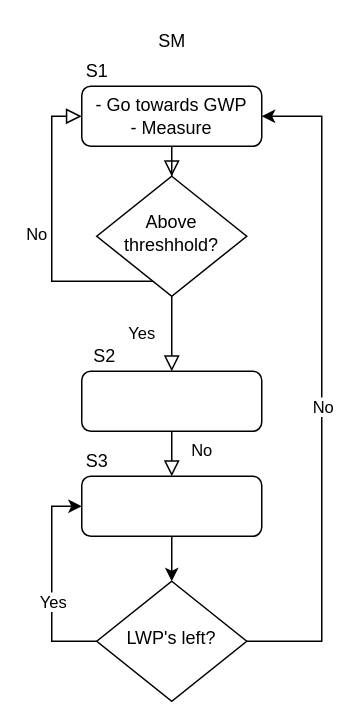
The diagram is 360 pixels wide and 728 high, and some of its shapes have lost their labels. The shapes that lost their labels are listed below. From the top down, each one's centre as x and y in pixels, then its label:
At pixel 171 400: "Create LWP's".
At pixel 171 505: "- Go towords LWP - Measure".
